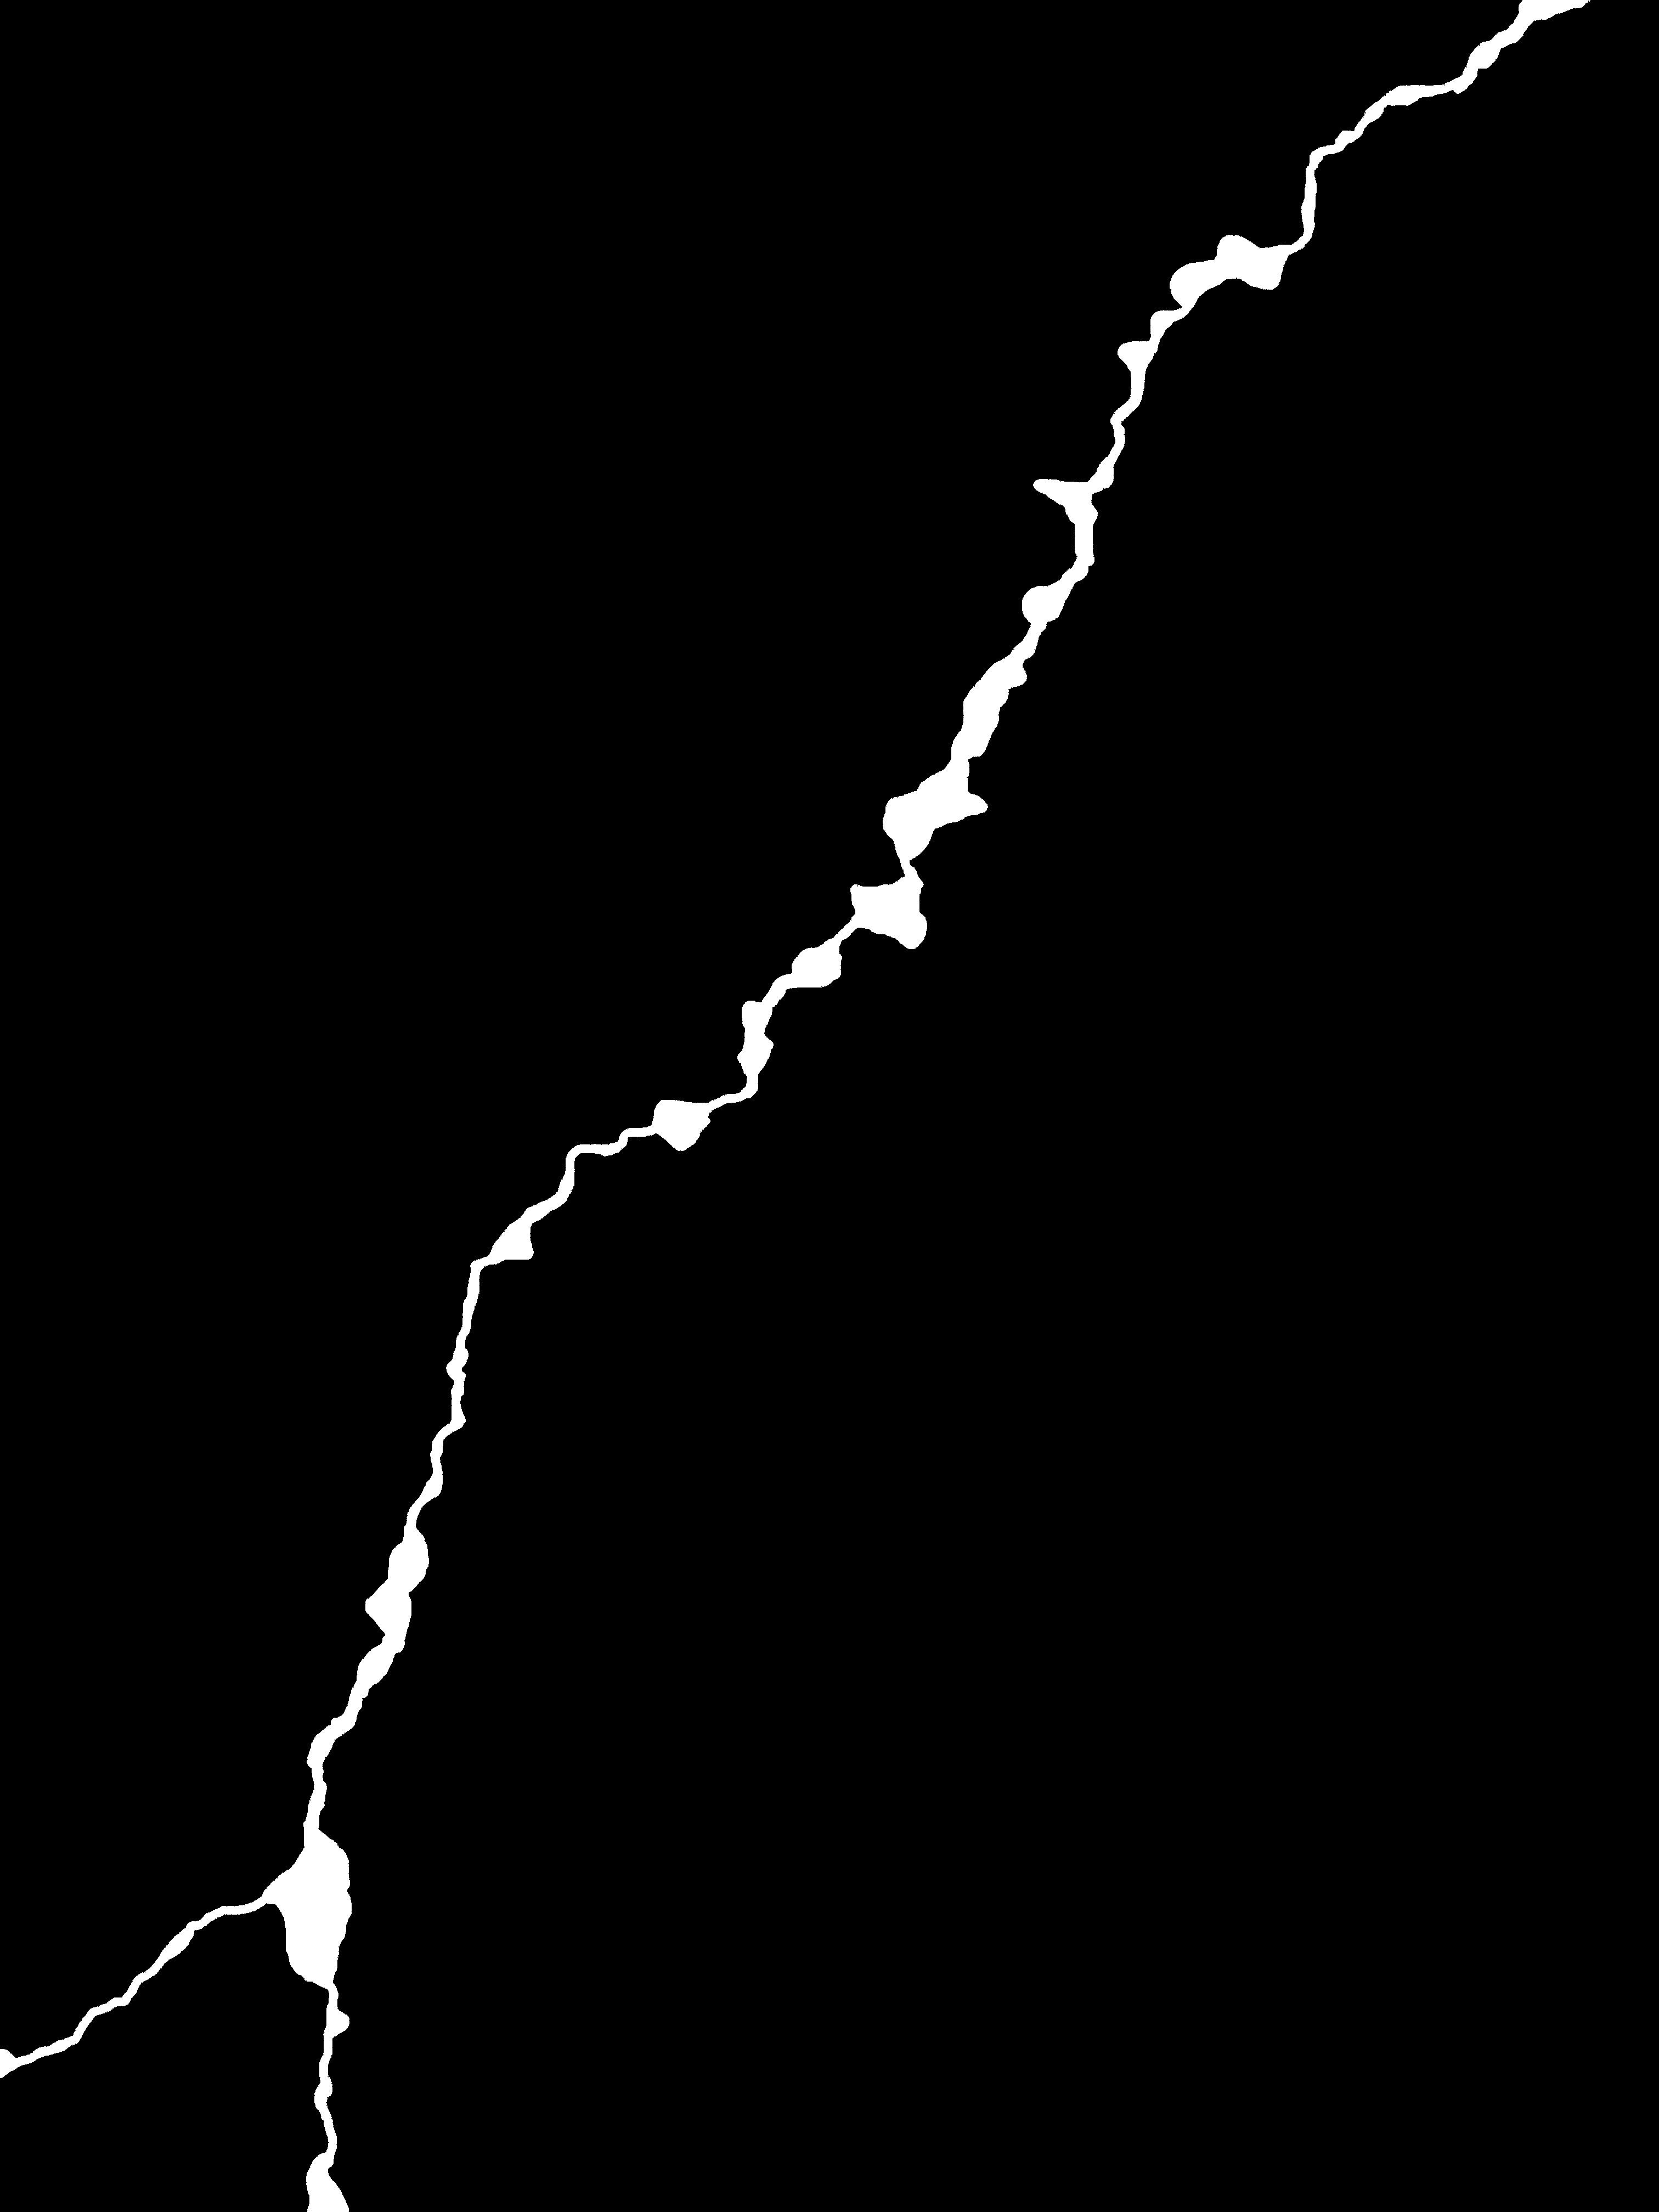Crack: (0, 0, 1603, 2212)
